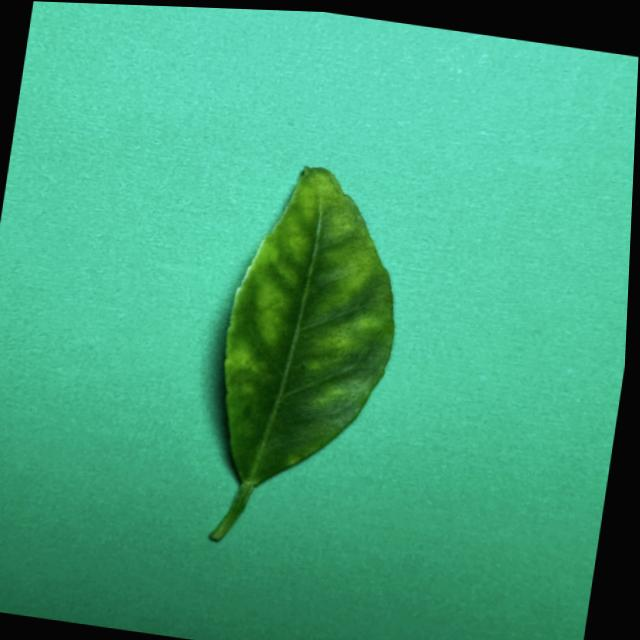greening: (209, 166, 393, 538)
